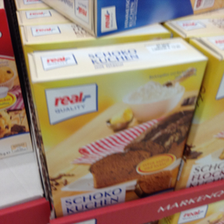cake: (27, 35, 209, 217)
